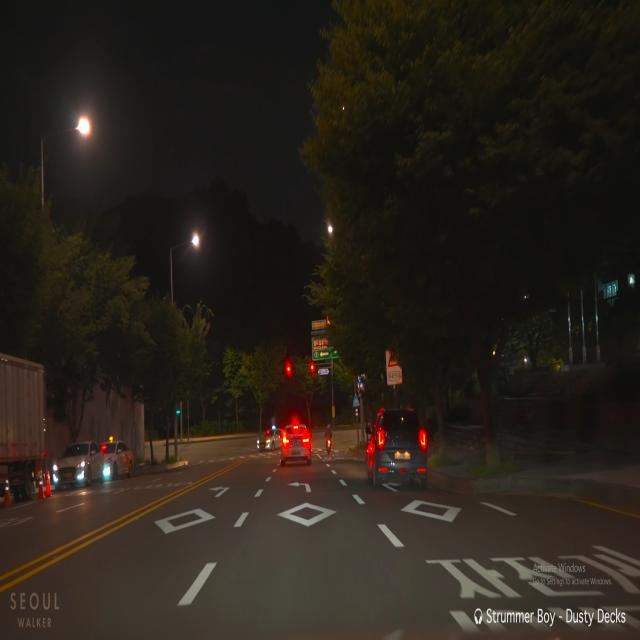headlights: (50, 458, 88, 491)
